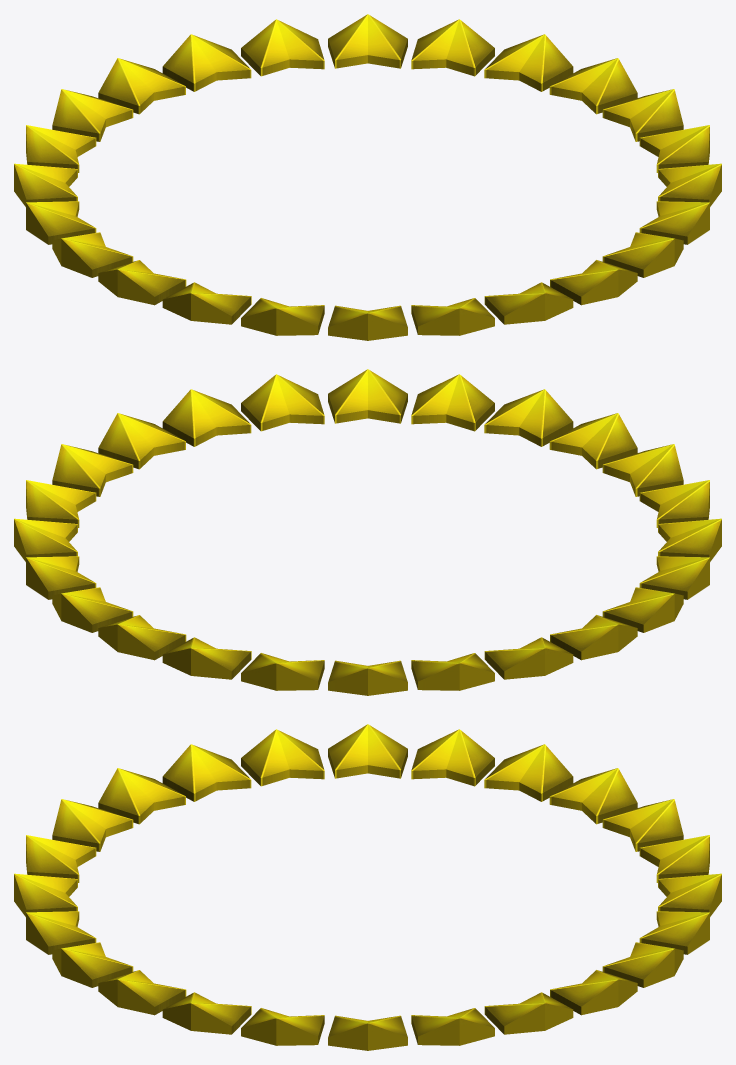
File: SeBan.fbx
3 renders of one model, top to bottom at view 1: azimuth 30°, elevation 25°; view 2: azimuth 150°, elevation 25°; view 3: azimuth 270°, elevation 25°, orthographic.
Parts seen in each view (by area): view 1: XYLS_newScene:red_gre_yel14:red_gre_yel14, XYLS_newScene:red_gre_yel13:red_gre_yel13, XYLS_newScene:red_gre_yel15:red_gre_yel15, XYLS_newScene:red_gre_yel16:red_gre_yel16, XYLS_newScene:red_gre_yel12:red_gre_yel12, XYLS_newScene:red_gre_yel17:red_gre_yel17, XYLS_newScene:red_gre_yel11:red_gre_yel11, XYLS_newScene:red_gre_yel18:red_gre_yel18, XYLS_newScene:red_gre_yel10:red_gre_yel10, XYLS_newScene:red_gre_yel24:red_gre_yel24, XYLS_newScene:red_gre_yel4:red_gre_yel4, XYLS_newScene:red_gre_yel5:red_gre_yel5 (+12 smaller); view 2: XYLS_newScene:red_gre_yel22:red_gre_yel22, XYLS_newScene:red_gre_yel21:red_gre_yel21, XYLS_newScene:red_gre_yel23:red_gre_yel23, XYLS_newScene:red_gre_yel24:red_gre_yel24, XYLS_newScene:red_gre_yel20:red_gre_yel20, XYLS_newScene:red_gre_yel1:red_gre_yel1, XYLS_newScene:red_gre_yel19:red_gre_yel19, XYLS_newScene:red_gre_yel2:red_gre_yel2, XYLS_newScene:red_gre_yel18:red_gre_yel18, XYLS_newScene:red_gre_yel8:red_gre_yel8, XYLS_newScene:red_gre_yel12:red_gre_yel12, XYLS_newScene:red_gre_yel13:red_gre_yel13 (+12 smaller); view 3: XYLS_newScene:red_gre_yel6:red_gre_yel6, XYLS_newScene:red_gre_yel5:red_gre_yel5, XYLS_newScene:red_gre_yel7:red_gre_yel7, XYLS_newScene:red_gre_yel8:red_gre_yel8, XYLS_newScene:red_gre_yel4:red_gre_yel4, XYLS_newScene:red_gre_yel9:red_gre_yel9, XYLS_newScene:red_gre_yel3:red_gre_yel3, XYLS_newScene:red_gre_yel10:red_gre_yel10, XYLS_newScene:red_gre_yel2:red_gre_yel2, XYLS_newScene:red_gre_yel16:red_gre_yel16, XYLS_newScene:red_gre_yel20:red_gre_yel20, XYLS_newScene:red_gre_yel21:red_gre_yel21 (+12 smaller).
Boxes of the visible parts, bbox=[...] form: XYLS_newScene:red_gre_yel14:red_gre_yel14: bbox=[328, 14, 407, 68]; XYLS_newScene:red_gre_yel13:red_gre_yel13: bbox=[241, 19, 324, 76]; XYLS_newScene:red_gre_yel15:red_gre_yel15: bbox=[411, 19, 494, 76]; XYLS_newScene:red_gre_yel16:red_gre_yel16: bbox=[484, 34, 573, 91]; XYLS_newScene:red_gre_yel12:red_gre_yel12: bbox=[162, 34, 251, 91]; XYLS_newScene:red_gre_yel17:red_gre_yel17: bbox=[549, 58, 637, 114]; XYLS_newScene:red_gre_yel11:red_gre_yel11: bbox=[98, 58, 185, 114]; XYLS_newScene:red_gre_yel18:red_gre_yel18: bbox=[602, 89, 683, 141]; XYLS_newScene:red_gre_yel10:red_gre_yel10: bbox=[52, 89, 133, 141]; XYLS_newScene:red_gre_yel24:red_gre_yel24: bbox=[484, 282, 573, 324]; XYLS_newScene:red_gre_yel4:red_gre_yel4: bbox=[162, 282, 251, 324]; XYLS_newScene:red_gre_yel5:red_gre_yel5: bbox=[98, 260, 186, 305]; XYLS_newScene:red_gre_yel22:red_gre_yel22: bbox=[328, 369, 407, 423]; XYLS_newScene:red_gre_yel21:red_gre_yel21: bbox=[241, 374, 324, 431]; XYLS_newScene:red_gre_yel23:red_gre_yel23: bbox=[411, 374, 494, 431]; XYLS_newScene:red_gre_yel24:red_gre_yel24: bbox=[484, 389, 573, 446]; XYLS_newScene:red_gre_yel20:red_gre_yel20: bbox=[162, 389, 251, 446]; XYLS_newScene:red_gre_yel1:red_gre_yel1: bbox=[549, 413, 637, 469]; XYLS_newScene:red_gre_yel19:red_gre_yel19: bbox=[98, 413, 185, 469]; XYLS_newScene:red_gre_yel2:red_gre_yel2: bbox=[602, 444, 683, 496]; XYLS_newScene:red_gre_yel18:red_gre_yel18: bbox=[52, 444, 133, 496]; XYLS_newScene:red_gre_yel8:red_gre_yel8: bbox=[484, 637, 573, 679]; XYLS_newScene:red_gre_yel12:red_gre_yel12: bbox=[162, 637, 251, 679]; XYLS_newScene:red_gre_yel13:red_gre_yel13: bbox=[98, 615, 186, 660]; XYLS_newScene:red_gre_yel6:red_gre_yel6: bbox=[328, 724, 407, 778]; XYLS_newScene:red_gre_yel5:red_gre_yel5: bbox=[241, 729, 324, 786]; XYLS_newScene:red_gre_yel7:red_gre_yel7: bbox=[411, 729, 494, 786]; XYLS_newScene:red_gre_yel8:red_gre_yel8: bbox=[484, 744, 573, 801]; XYLS_newScene:red_gre_yel4:red_gre_yel4: bbox=[162, 744, 251, 801]; XYLS_newScene:red_gre_yel9:red_gre_yel9: bbox=[549, 768, 637, 824]; XYLS_newScene:red_gre_yel3:red_gre_yel3: bbox=[98, 768, 185, 824]; XYLS_newScene:red_gre_yel10:red_gre_yel10: bbox=[602, 799, 683, 851]; XYLS_newScene:red_gre_yel2:red_gre_yel2: bbox=[52, 799, 133, 851]; XYLS_newScene:red_gre_yel16:red_gre_yel16: bbox=[484, 992, 573, 1034]; XYLS_newScene:red_gre_yel20:red_gre_yel20: bbox=[162, 992, 251, 1034]; XYLS_newScene:red_gre_yel21:red_gre_yel21: bbox=[98, 970, 186, 1015].
Bounding box in the file's own units: 5.92 × 0.2555 × 5.92.
